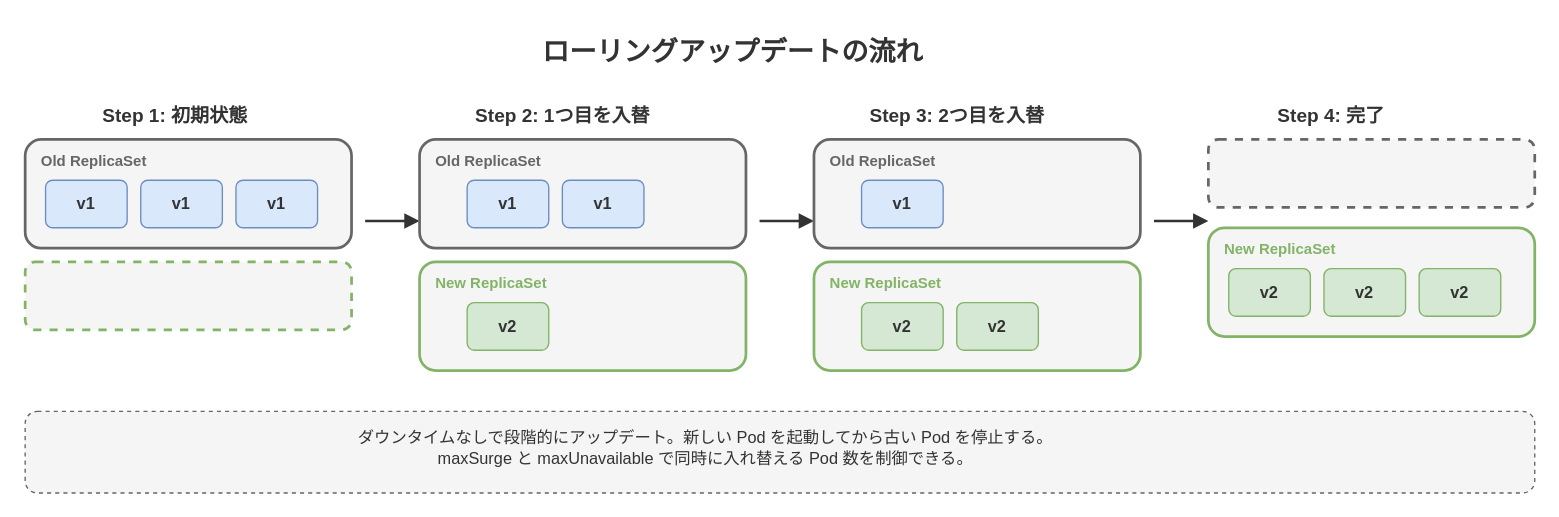
The diagram is 1559 pixels wide and 517 high, and some of its shapes have lost their labels. Here are the shapes that lost their labels. From the top down, the centre of each, then its label:
At (1370,172): "Old ReplicaSet（空）".
At (187,295): "New ReplicaSet（空）".
